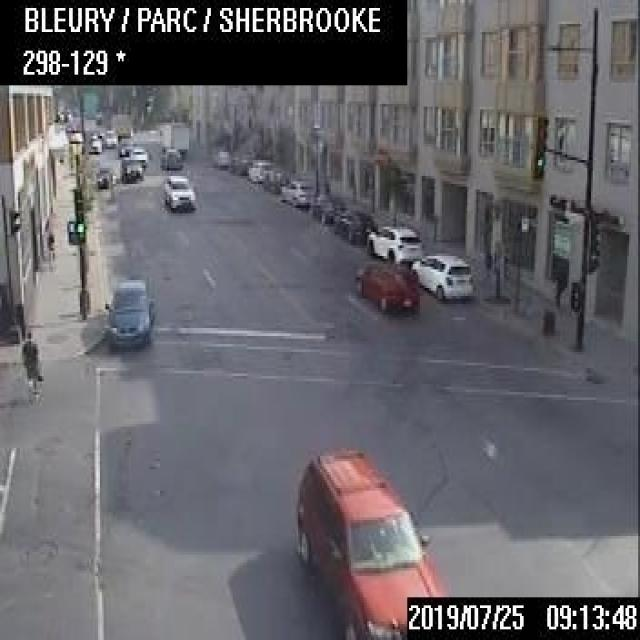pedestrian: (20, 330, 42, 403)
vehicle: (296, 443, 447, 637), (104, 277, 152, 352), (354, 257, 418, 310), (409, 252, 472, 298), (365, 223, 421, 263), (333, 208, 377, 242), (308, 191, 346, 222), (164, 173, 194, 209), (278, 178, 314, 205), (158, 120, 188, 152), (246, 156, 272, 182), (260, 168, 288, 192), (158, 146, 181, 168), (120, 155, 141, 179), (229, 150, 251, 172), (94, 165, 114, 187), (110, 111, 128, 135), (128, 146, 146, 164), (116, 135, 132, 155), (87, 133, 100, 151), (103, 128, 116, 146)
